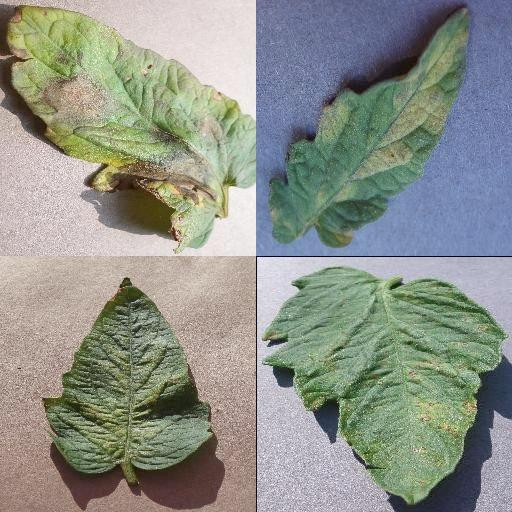Late Blight: (6, 5, 255, 256)
Leaf Mold: (270, 5, 471, 245)
Septoria: (262, 266, 504, 504)
Spider Mites: (43, 276, 215, 474)
